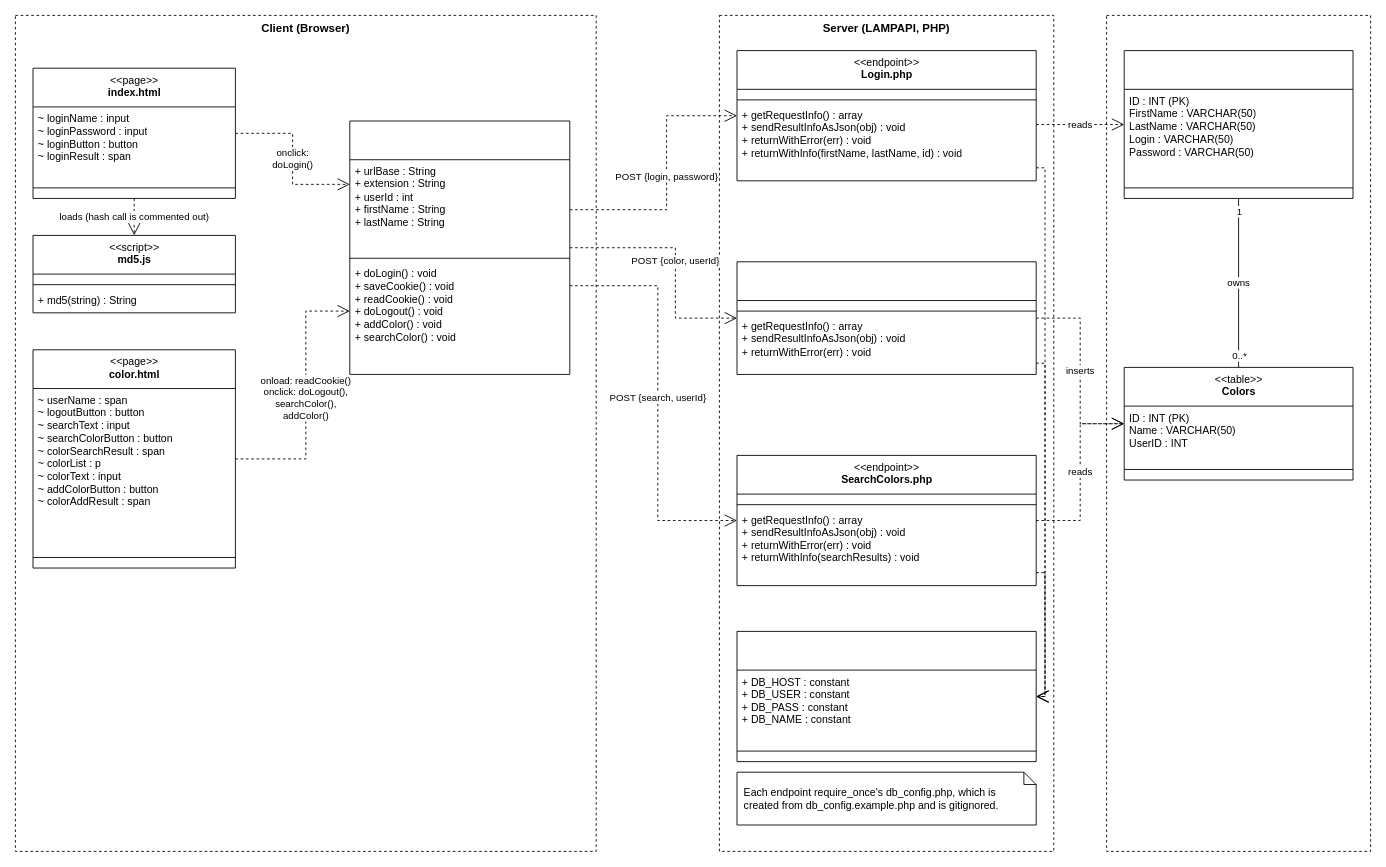
Some shapes in this 1386 by 867 pixel diagram are drawn without their labels. Each missing label, with the box of its shape:
<<config>> db_config.php: (736, 631, 1036, 762)
<<endpoint>> AddColor.php: (736, 261, 1036, 374)
<<script>> code.js: (349, 120, 570, 374)
<<table>> Users: (1123, 50, 1353, 198)
Database (MySQL: COP4331): (1106, 15, 1371, 851)
